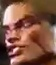kevin: (1, 0, 49, 63)
